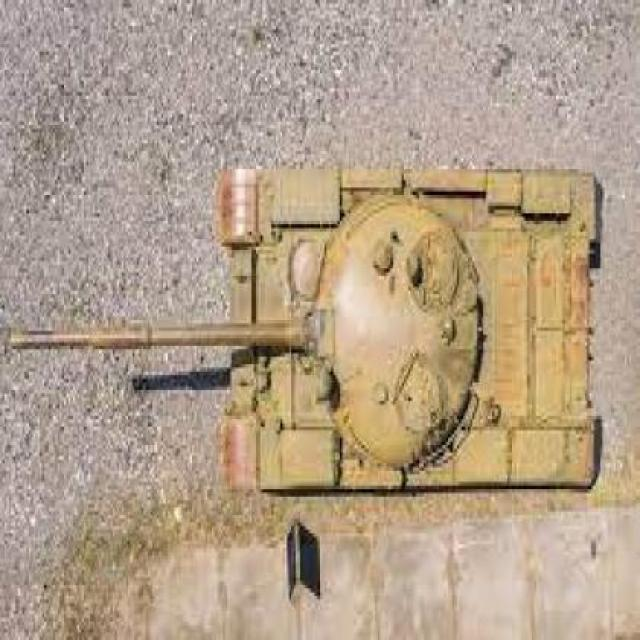tank: (5, 160, 600, 492)
